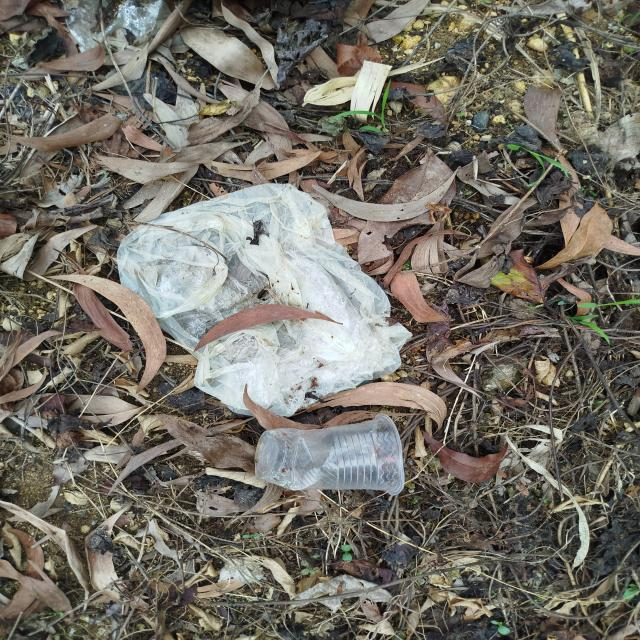plastic: (245, 415, 431, 504)
residual: (120, 183, 434, 412)
